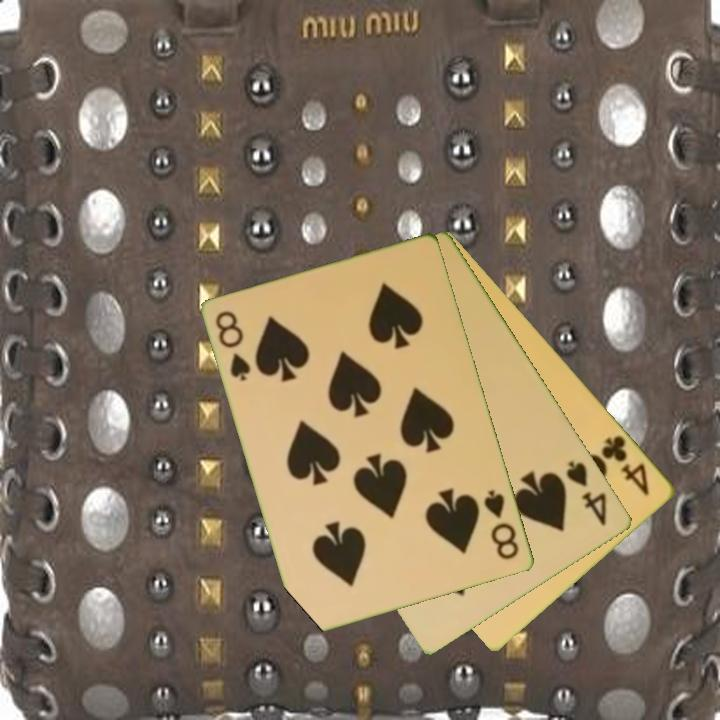4c: (598, 431, 653, 499)
4s: (563, 457, 611, 530)
8s: (212, 307, 255, 385), (480, 486, 523, 563)
